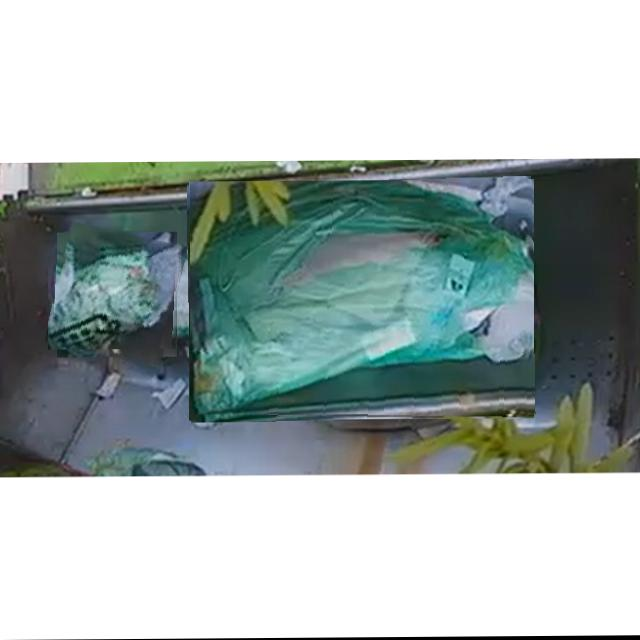general_trashbag: (191, 181, 531, 417), (48, 245, 180, 349)
